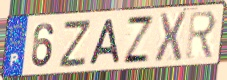6: (31, 23, 55, 70)
A: (87, 18, 122, 67)
R: (184, 9, 218, 61)
X: (153, 10, 188, 65)
Z: (57, 18, 94, 70), (122, 15, 156, 65)
